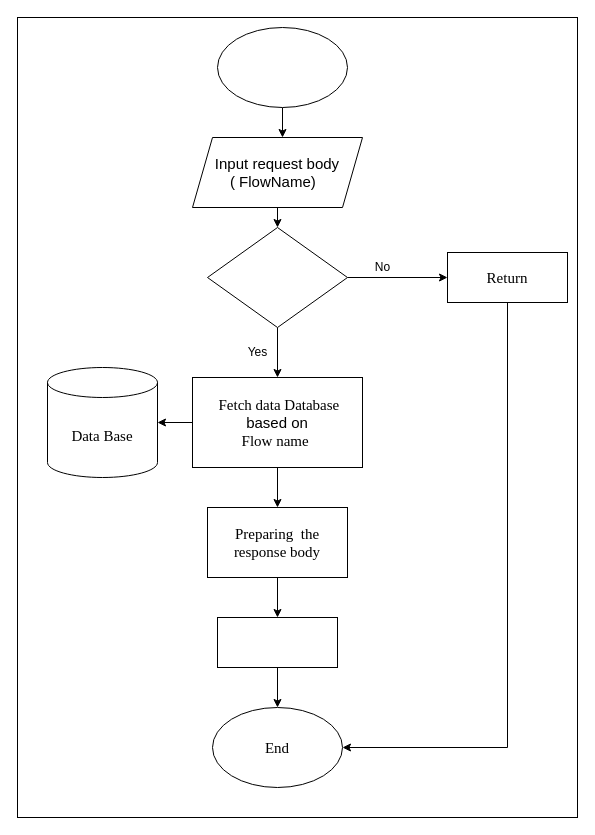
Image size: 595x835. Some labels were removed from this diagram. Each missing label, with the centre of its shape:
Flow name exist: the point at 277,277
Return the response body: the point at 277,642
Start: the point at 282,67
